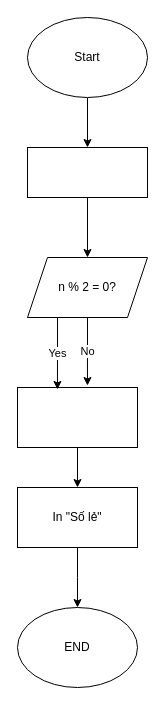
The diagram is 165 pixels wide and 705 high, and some of its shapes have lost their labels. Here are the shapes that lost their labels. From the top down, the centre of each, then its label:
point 87,172: Nhập n
point 77,417: In "Số chẵn"
